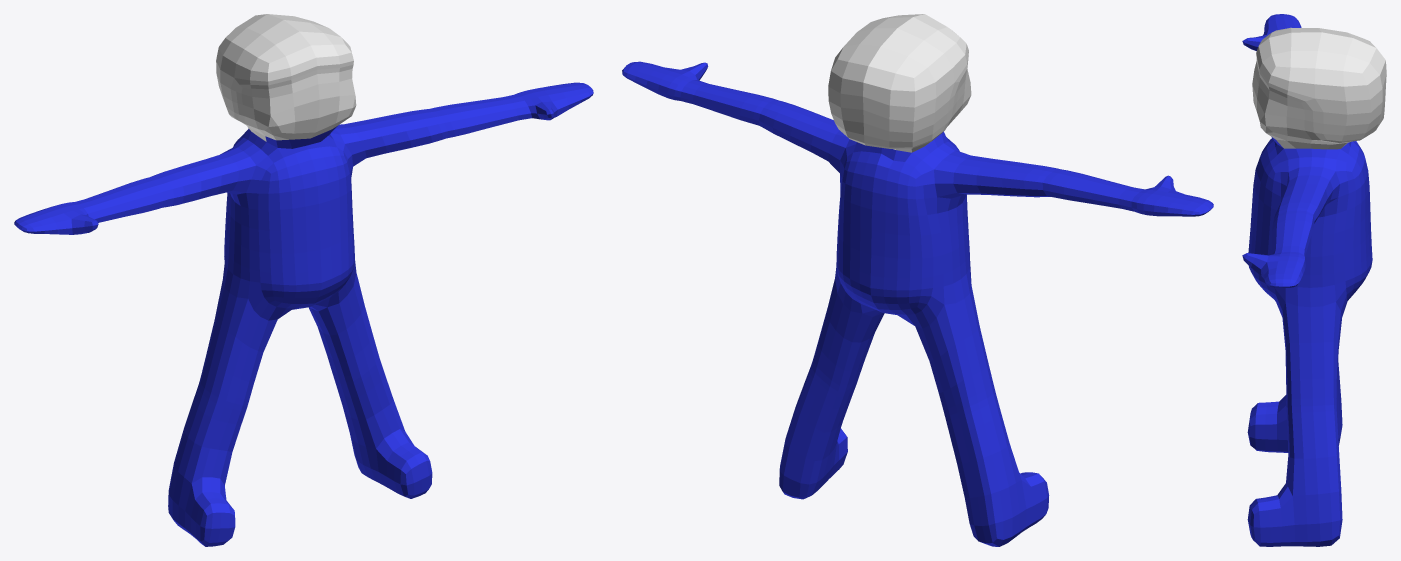
File: CharacterTest.glb
3 views of the same model, side by side, from view 1: azimuth 30°, elevation 25°; view 2: azimuth 150°, elevation 25°; view 3: azimuth 270°, elevation 25° (orthographic). The views are drawn at different scales.
Parts seen in each view (by area): view 1: Cube; view 2: Cube; view 3: Cube.
Boxes of the visible parts, x1,y1,x2,y2 form: Cube: (14,14,593,546); Cube: (622,14,1213,546); Cube: (1242,14,1386,546).
Bounding box in the file's own units: 7.85 × 6.29 × 1.77.
